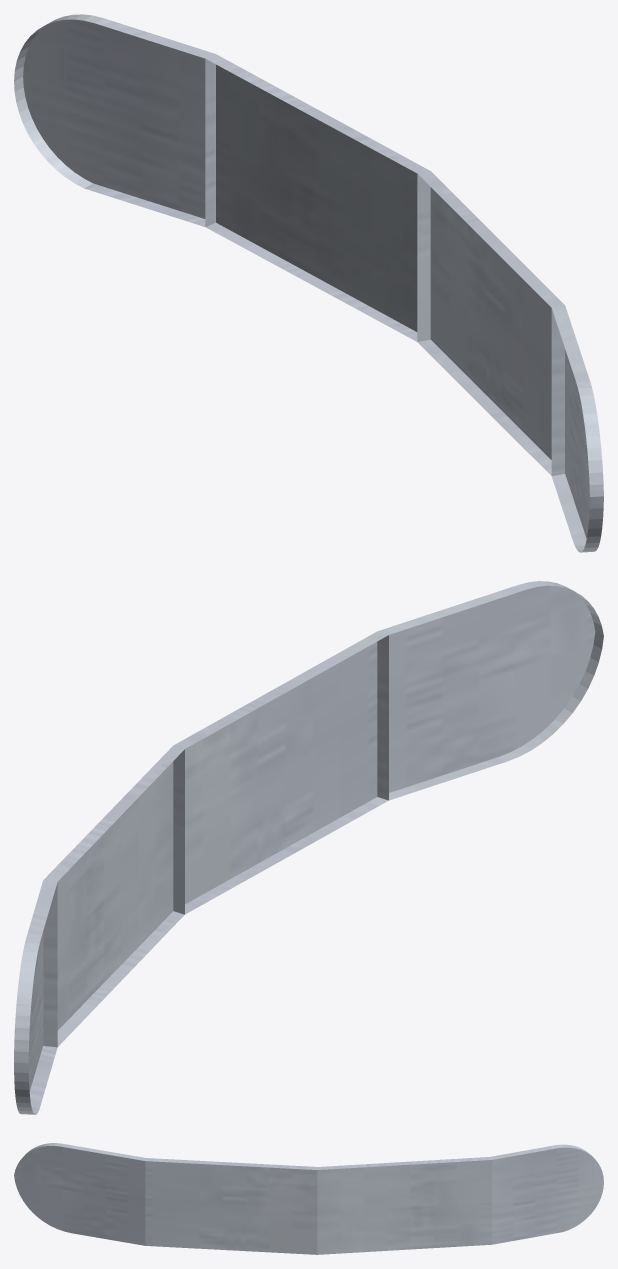
The model's file is original-15.obj.
3 renders of one model, top to bottom at view 1: azimuth 30°, elevation 25°; view 2: azimuth 150°, elevation 25°; view 3: azimuth 270°, elevation 25°, orthographic. The views are drawn at different scales.
Visible parts, largest first — view 1: Group6/mesh8/mesh8-geometry#mesh8-geometry; view 2: Group6/mesh8/mesh8-geometry#mesh8-geometry; view 3: Group6/mesh8/mesh8-geometry#mesh8-geometry.
Part boxes in pixels (<box>): Group6/mesh8/mesh8-geometry#mesh8-geometry: <box>14,14,603,552</box>; Group6/mesh8/mesh8-geometry#mesh8-geometry: <box>14,581,603,1114</box>; Group6/mesh8/mesh8-geometry#mesh8-geometry: <box>14,1143,603,1254</box>.
Bounding box in the file's own units: 0.0915 × 0.1055 × 0.6651.
